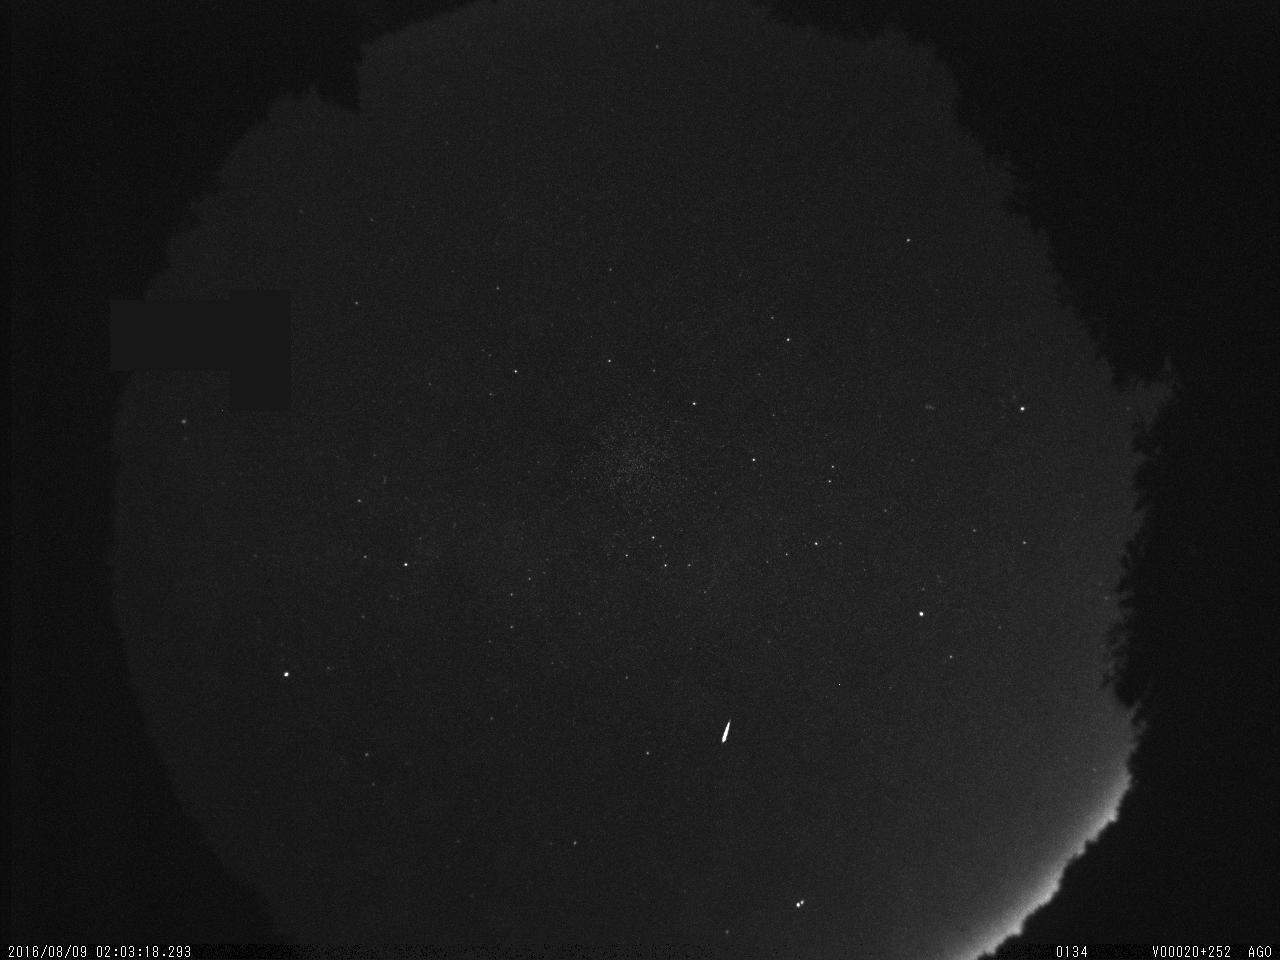meteor: (710, 717, 742, 755)
